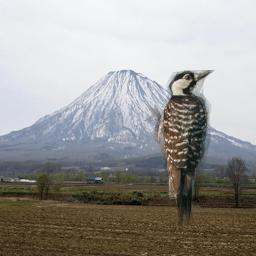Woodpecker: (143, 70, 215, 234)
